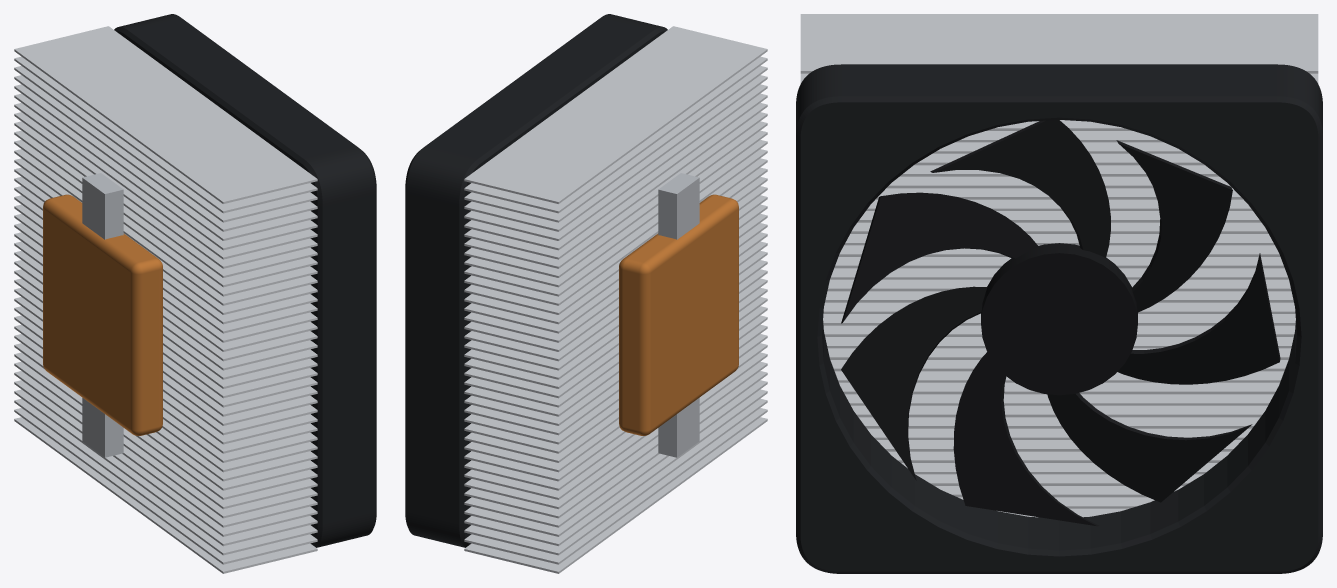
File: cooler-low-profile-v1.glb
3 views of the same model, side by side, from view 1: azimuth 30°, elevation 25°; view 2: azimuth 150°, elevation 25°; view 3: azimuth 270°, elevation 25° (orthographic). The views are drawn at different scales.
Visible parts, largest first — view 1: fin_stack_0__mesh, fan_0__mesh, base__mesh; view 2: fin_stack_0__mesh, fan_0__mesh, base__mesh; view 3: fan_0__mesh, fin_stack_0__mesh.
Boxes of the visible parts, box(x1,y1,x2,y2) form: fin_stack_0__mesh: box(14, 26, 317, 573); fan_0__mesh: box(114, 14, 376, 547); base__mesh: box(43, 173, 162, 457); fin_stack_0__mesh: box(464, 26, 767, 573); fan_0__mesh: box(405, 14, 667, 547); base__mesh: box(619, 173, 738, 457); fan_0__mesh: box(796, 64, 1322, 573); fin_stack_0__mesh: box(800, 14, 1318, 517).
Bounding box in the file's own units: 0.047 × 0.0936 × 0.0936.
